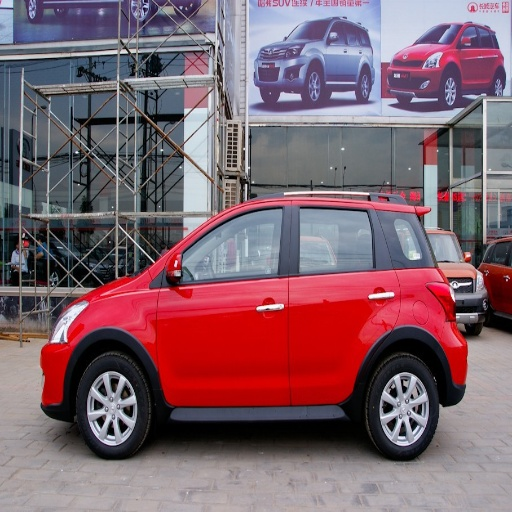back_left_door: (292, 201, 396, 404)
front_left_door: (157, 201, 290, 403)
